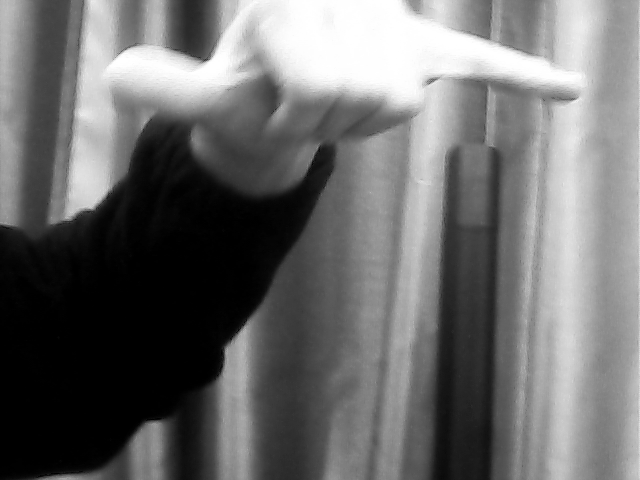aloha: (107, 1, 590, 180)
